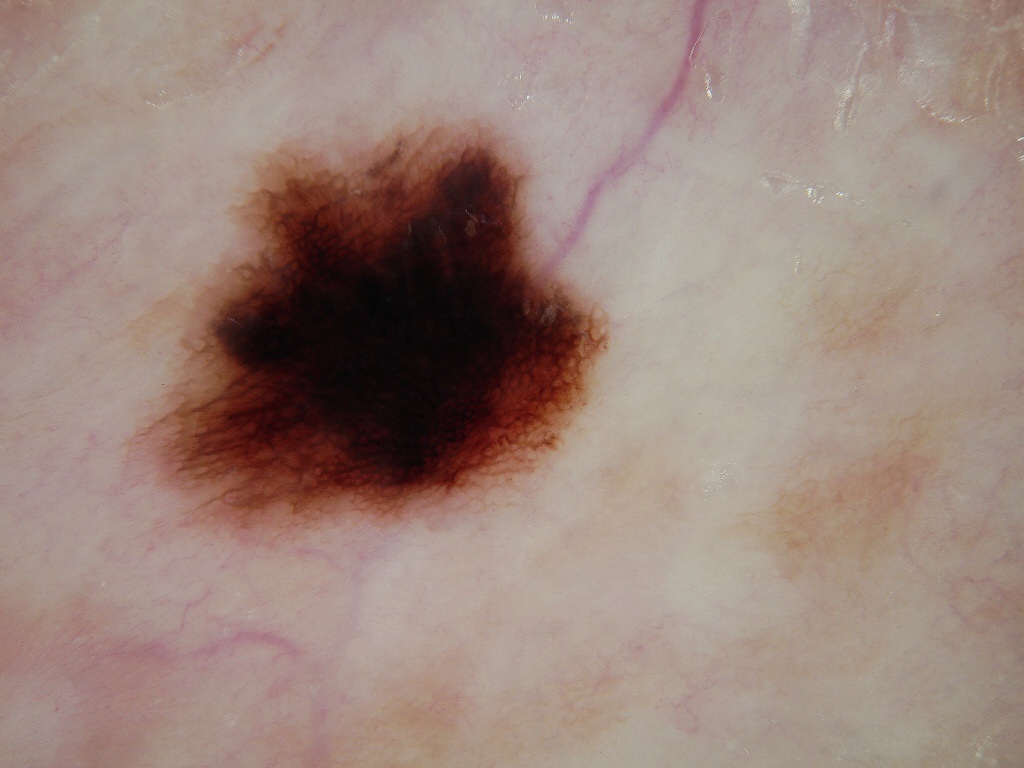Detected Lesion: (125, 105, 619, 530)
